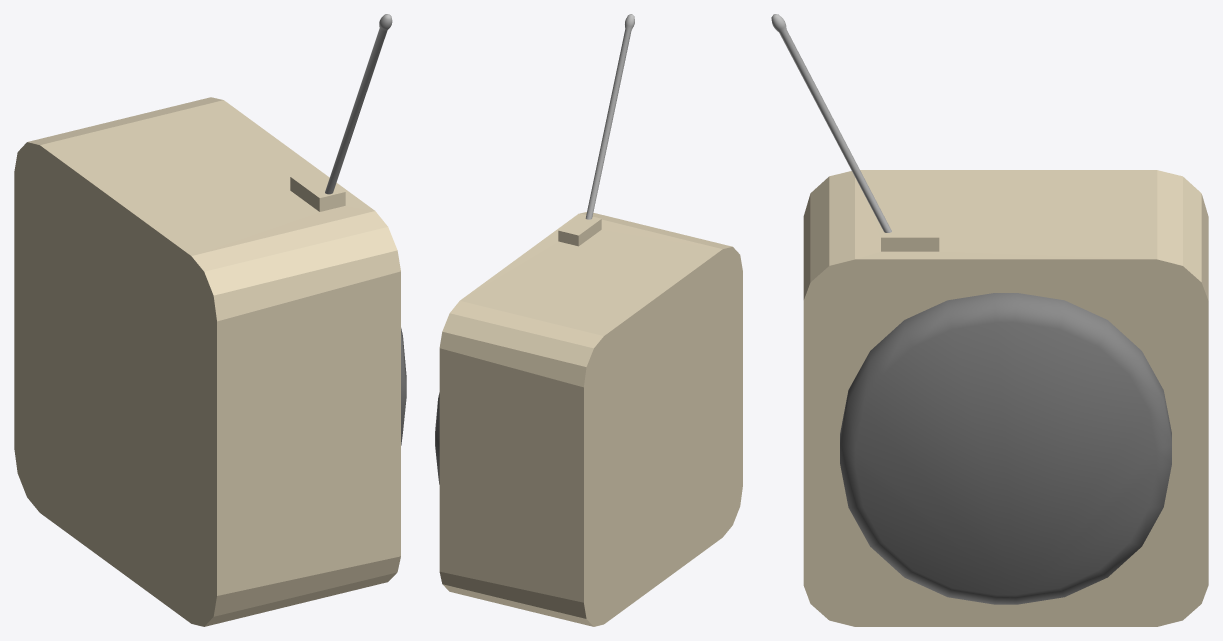
Rendered from radio.fbx.
The picture shows the model from 3 angles, left to right: view 1: azimuth 30°, elevation 25°; view 2: azimuth 150°, elevation 25°; view 3: azimuth 270°, elevation 25°; orthographic projection. The views are drawn at different scales.
Visible parts, largest first — view 1: Cube.001, Cube; view 2: Cube.001, Cube; view 3: Cube.001, Cube.002, Cube.
Boxes of the visible parts, box(x1,y1,x2,y2) form: Cube.001: box(14, 97, 400, 626); Cube: box(325, 14, 392, 194); Cube.001: box(439, 212, 742, 626); Cube: box(585, 14, 634, 219); Cube.001: box(803, 170, 1208, 626); Cube.002: box(840, 293, 1171, 604); Cube: box(771, 14, 891, 232).
Bounding box in the file's own units: 216 × 123 × 327.
